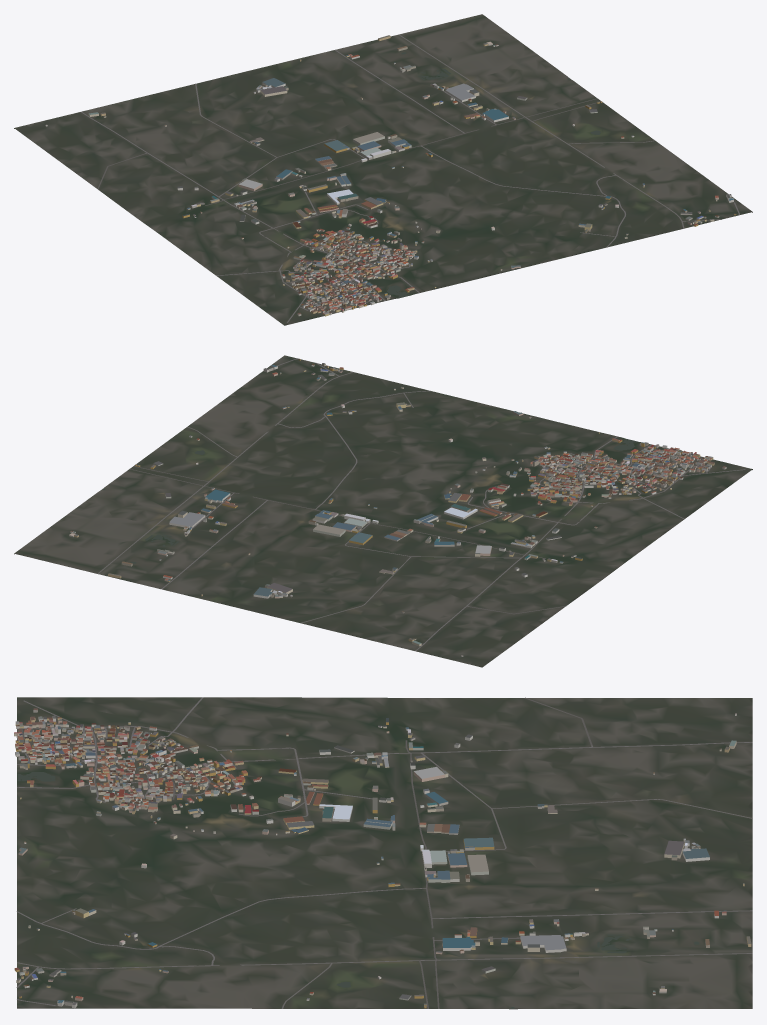
The picture shows the model from 3 angles, top to bottom: view 1: azimuth 30°, elevation 25°; view 2: azimuth 150°, elevation 25°; view 3: azimuth 270°, elevation 25°; orthographic projection. The views are drawn at different scales.
Visible parts, largest first — view 1: ground, buildings, roads; view 2: ground, buildings, roads; view 3: ground, buildings, roads, water.
Part boxes in pixels (x1,y1,x2,y2): ground: (14, 14, 752, 325); buildings: (45, 35, 736, 316); roads: (81, 34, 739, 322); ground: (14, 355, 752, 667); buildings: (69, 358, 726, 656); roads: (97, 358, 745, 651); ground: (17, 697, 752, 1009); buildings: (14, 708, 751, 1008); roads: (16, 697, 752, 1008); water: (17, 772, 699, 1008).
Bounding box in the file's own units: 1402 × 17.49 × 1408.
